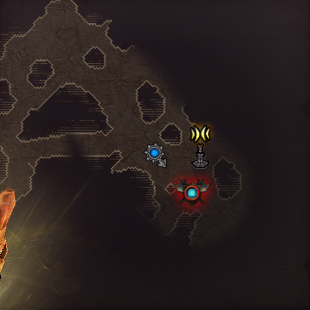ChannPylon: (190, 123, 212, 166)
